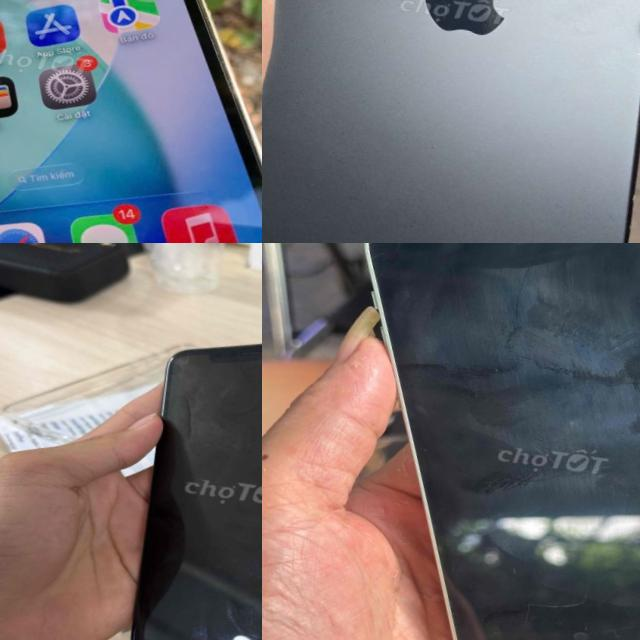physical_damage: (475, 515, 640, 640), (424, 243, 620, 274)
